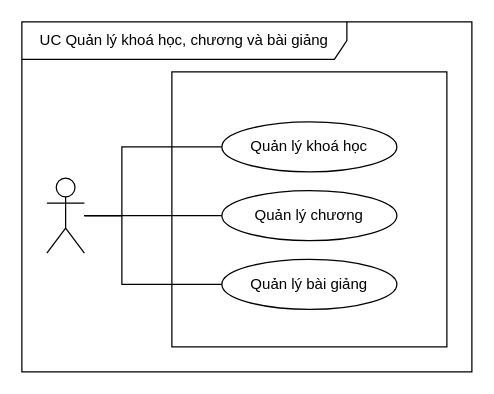
Some shapes in this 494 by 394 pixel diagram are drawn without their labels. The box of each missing label's shape, as (x1, y1, x2, y2) in pixels:
Giảng viên: (46, 177, 84, 253)
Hệ thống: (171, 71, 447, 347)
